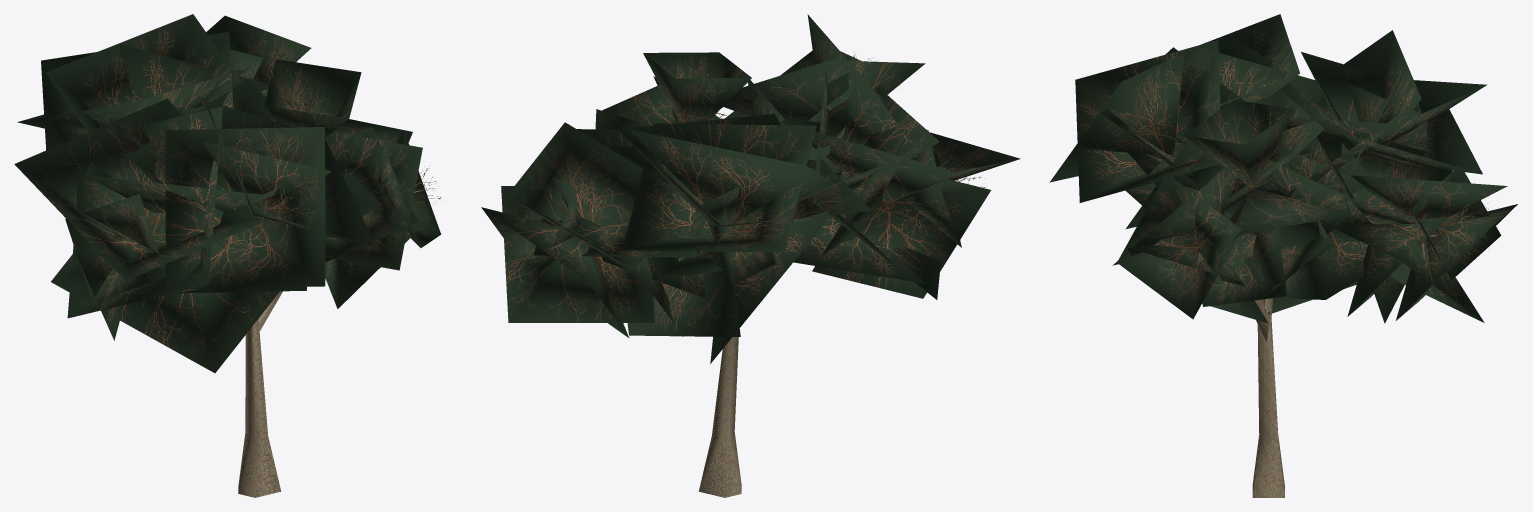
File: decd_mapletreebranches_a2_l1.fbx
3 views of the same model, side by side, from view 1: azimuth 30°, elevation 25°; view 2: azimuth 150°, elevation 25°; view 3: azimuth 270°, elevation 25° (orthographic). The views are drawn at different scales.
Parts seen in each view (by area): view 1: mesh_node; view 2: mesh_node; view 3: mesh_node.
Boxes of the visible parts, left/top/right/bottom form: mesh_node: left=14, top=14, right=441, bottom=497; mesh_node: left=481, top=14, right=1020, bottom=497; mesh_node: left=1049, top=14, right=1517, bottom=497.
Size of the model in its own units: 26.61 by 27.87 by 28.7.
